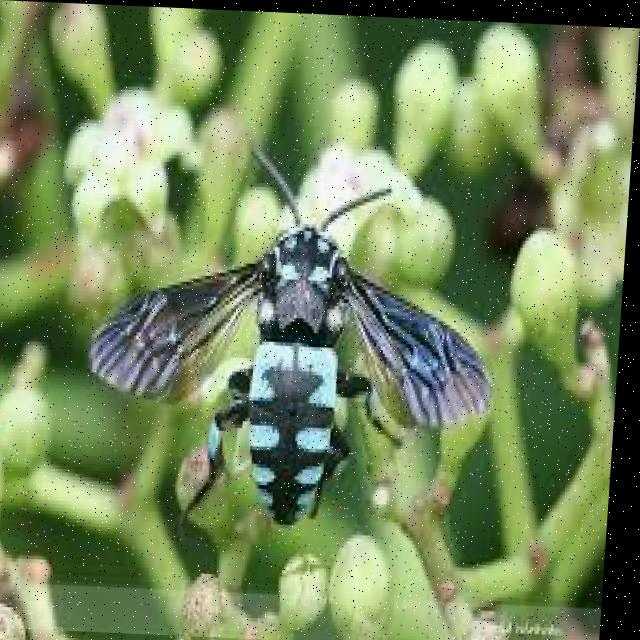Thyreus: (93, 127, 506, 528)
